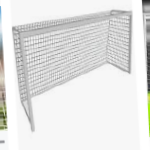goals: (9, 8, 133, 138)
